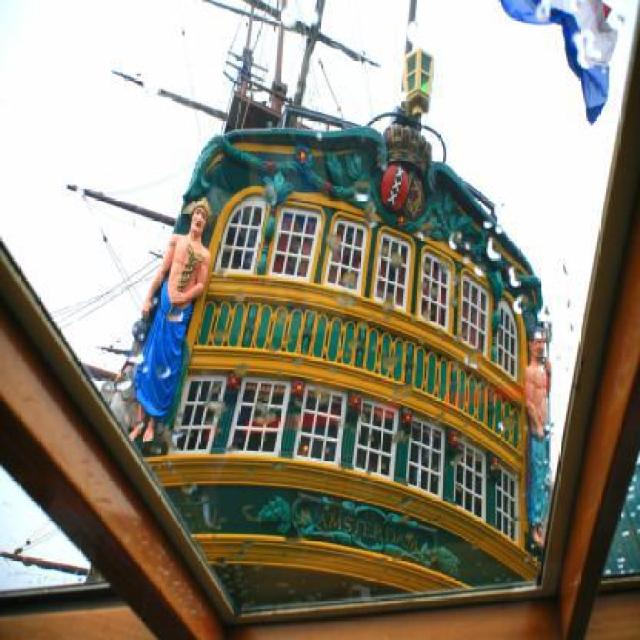Person: (116, 168, 216, 482), (525, 325, 553, 549)
